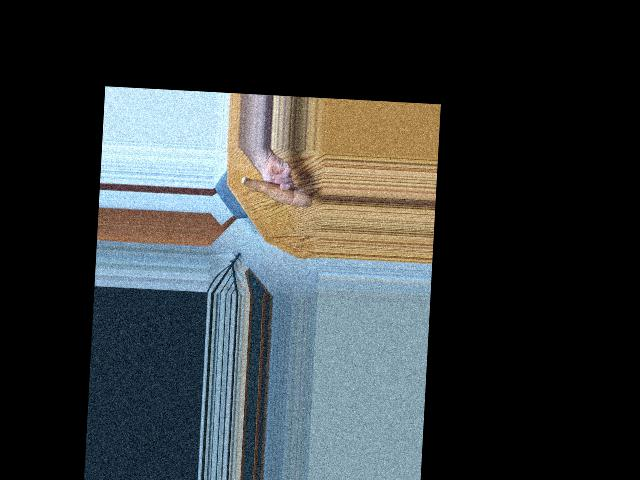sweet_potato: (239, 173, 312, 210)
